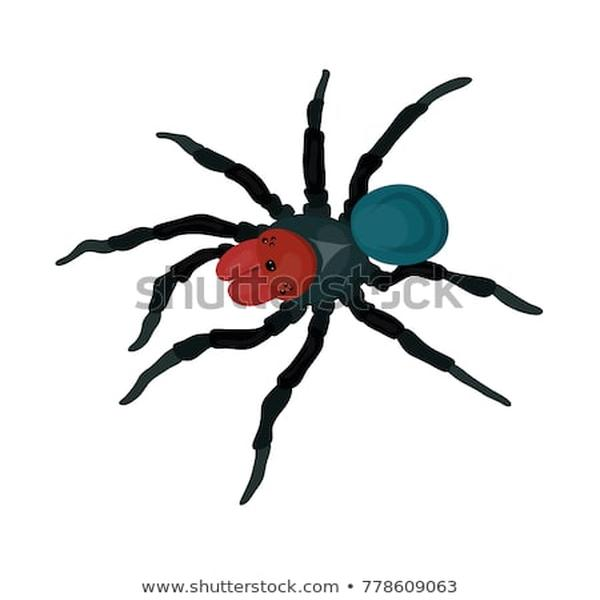Red Headed Mouse Spider: (75, 67, 538, 492)
